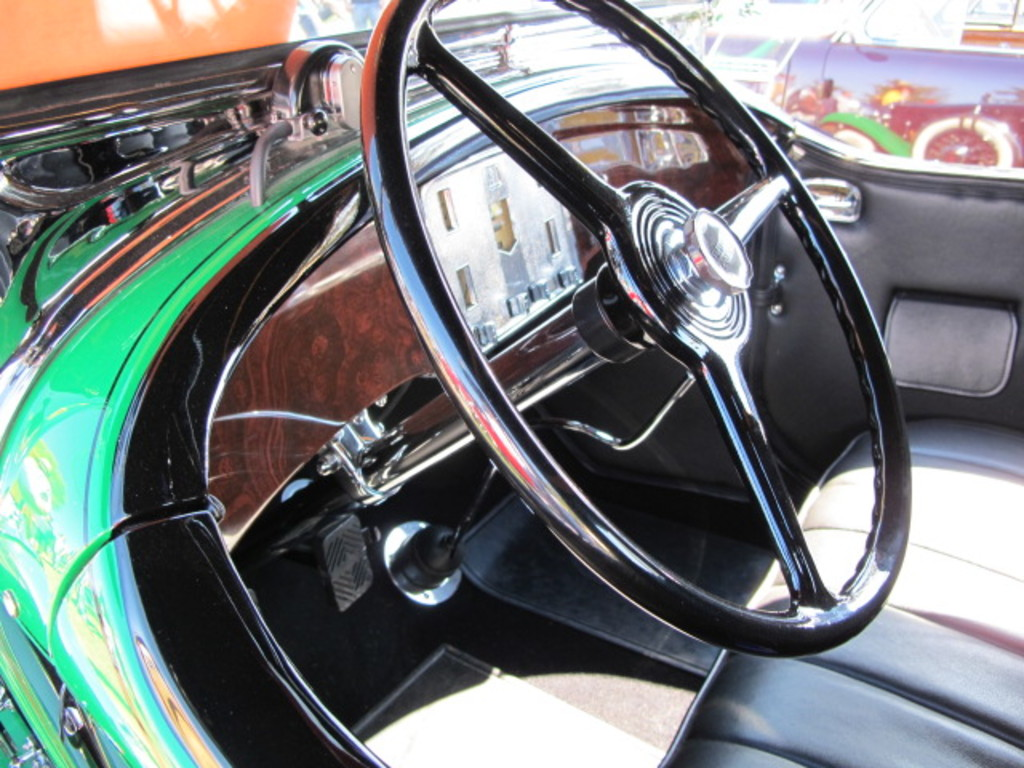Car: (0, 0, 1022, 766), (672, 0, 1022, 164)
